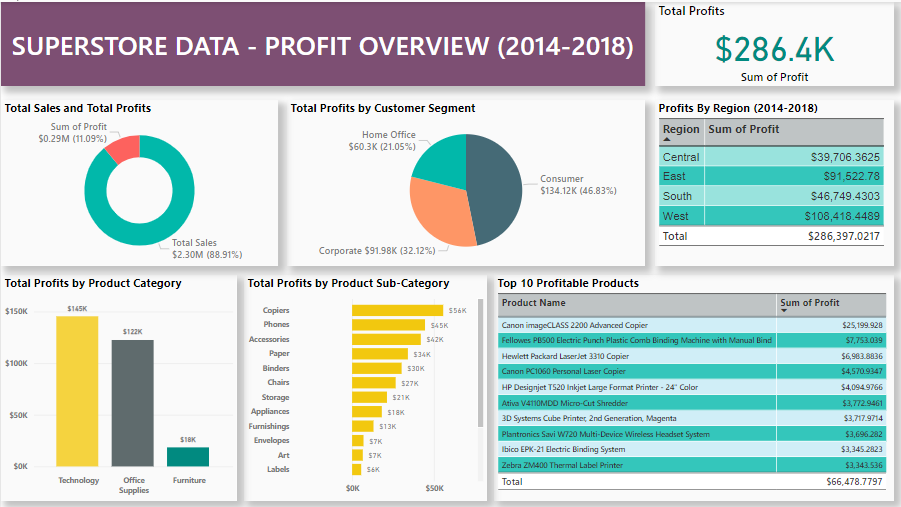

The dashboard page shown, as its layout file describes it:
{"tool":"powerbi","page":{"name":"Page 2","canvas":[1280,720],"ordinal":1},"visuals":[{"type":"shape","box":[0,0,912.8,119.1],"z":0},{"type":"clusteredColumnChart","title":"Total Profits by Product Category","fields":{"Category":["Orders.Product Category"],"Y":["Sum(Orders.Profit)"]},"box":[0,386.9,334.5,320.3],"z":1000},{"type":"clusteredBarChart","title":"Total Profits by Product Sub-Category","fields":{"Category":["Orders.Product Sub-Category"],"Y":["Sum(Orders.Profit)"]},"box":[344.4,386.9,344.4,320.3],"z":2000},{"type":"pieChart","title":"Total Profits by Customer Segment","fields":{"Y":["Sum(Orders.Profit)"],"Category":["Orders.Customer Segment"]},"box":[405.4,138.9,507.4,235.3],"z":3000},{"type":"card","title":"Total Profits","fields":{"Values":["Sum(Orders.Profit)"]},"box":[926.9,0,338.7,119.1],"z":4000},{"type":"donutChart","title":"Total Sales and Total Profits","fields":{"Y":["Orders.Total Sales","Sum(Orders.Profit)"]},"box":[0,138.9,392.6,235.3],"z":5000},{"type":"tableEx","title":"Top 10 Profitable Products","fields":{"Values":["Orders.Product Name","Sum(Orders.Profit)"]},"box":[698.7,386.9,566.9,320.3],"z":6000},{"type":"tableEx","title":"Profits By Region (2014-2018)","fields":{"Values":["Orders.Region","Sum(Orders.Profit)"]},"box":[926.9,138.9,338.7,235.3],"z":7000}]}

Visuals, with their boxes in screenshot pixels (x1, y1, x2, y2), scaled from the page's 1280x720 canvas onto the 901x507 screenshot:
shape: x1=0 y1=0 x2=643 y2=84
"Total Profits by Product Category" clusteredColumnChart: x1=0 y1=272 x2=235 y2=498
"Total Profits by Product Sub-Category" clusteredBarChart: x1=242 y1=272 x2=485 y2=498
"Total Profits by Customer Segment" pieChart: x1=285 y1=98 x2=643 y2=263
"Total Profits" card: x1=652 y1=0 x2=891 y2=84
"Total Sales and Total Profits" donutChart: x1=0 y1=98 x2=276 y2=263
"Top 10 Profitable Products" tableEx: x1=492 y1=272 x2=891 y2=498
"Profits By Region (2014-2018)" tableEx: x1=652 y1=98 x2=891 y2=263
